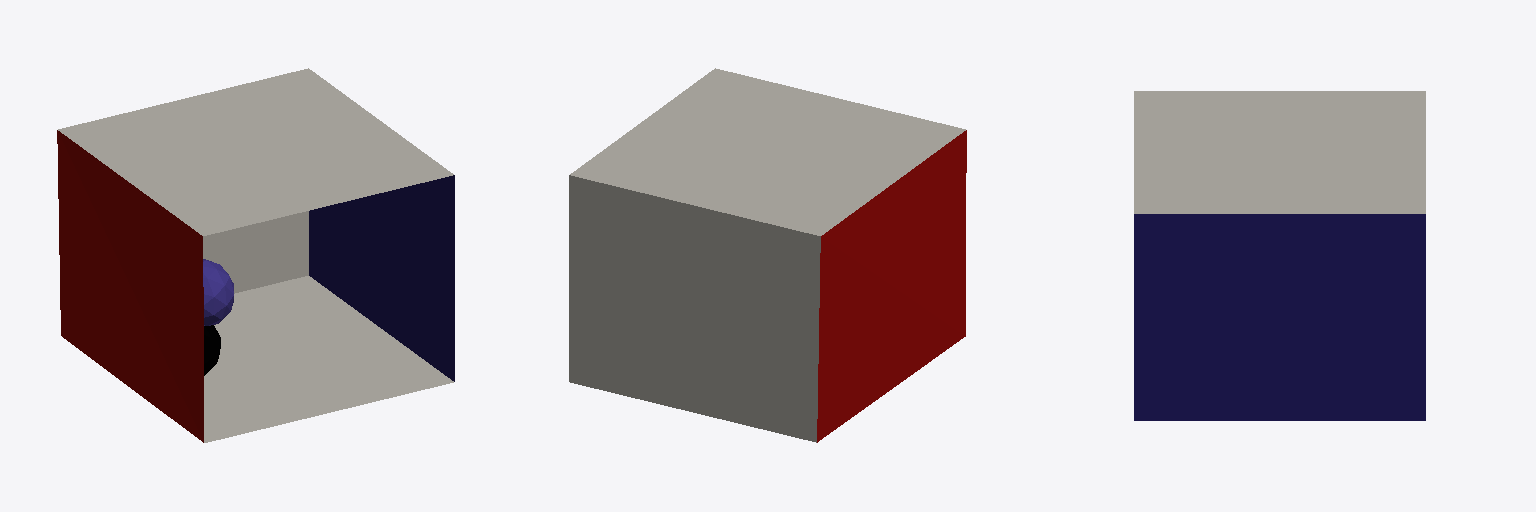
The model's file is CornellBox-Sphere-195.obj.
3 views of the same model, side by side, from view 1: azimuth 30°, elevation 25°; view 2: azimuth 150°, elevation 25°; view 3: azimuth 270°, elevation 25° (orthographic).
Parts seen in each view (by area): view 1: ceiling, leftWall, floor, rightWall, backWall, leftSphere, rightSphere; view 2: backWall, ceiling, leftWall; view 3: rightWall, ceiling.
Part boxes in pixels (x1,y1,x2,y2): ceiling: (58,68,453,235); leftWall: (57,130,203,442); floor: (204,276,453,442); rightWall: (309,175,454,381); backWall: (203,211,308,293); leftSphere: (203,259,233,325); rightSphere: (204,325,220,375); backWall: (569,175,820,442); ceiling: (570,68,965,235); leftWall: (817,130,966,442); rightWall: (1134,214,1425,420); ceiling: (1134,91,1425,213).
Size of the model in its own units: 2.02 by 1.59 by 2.03.